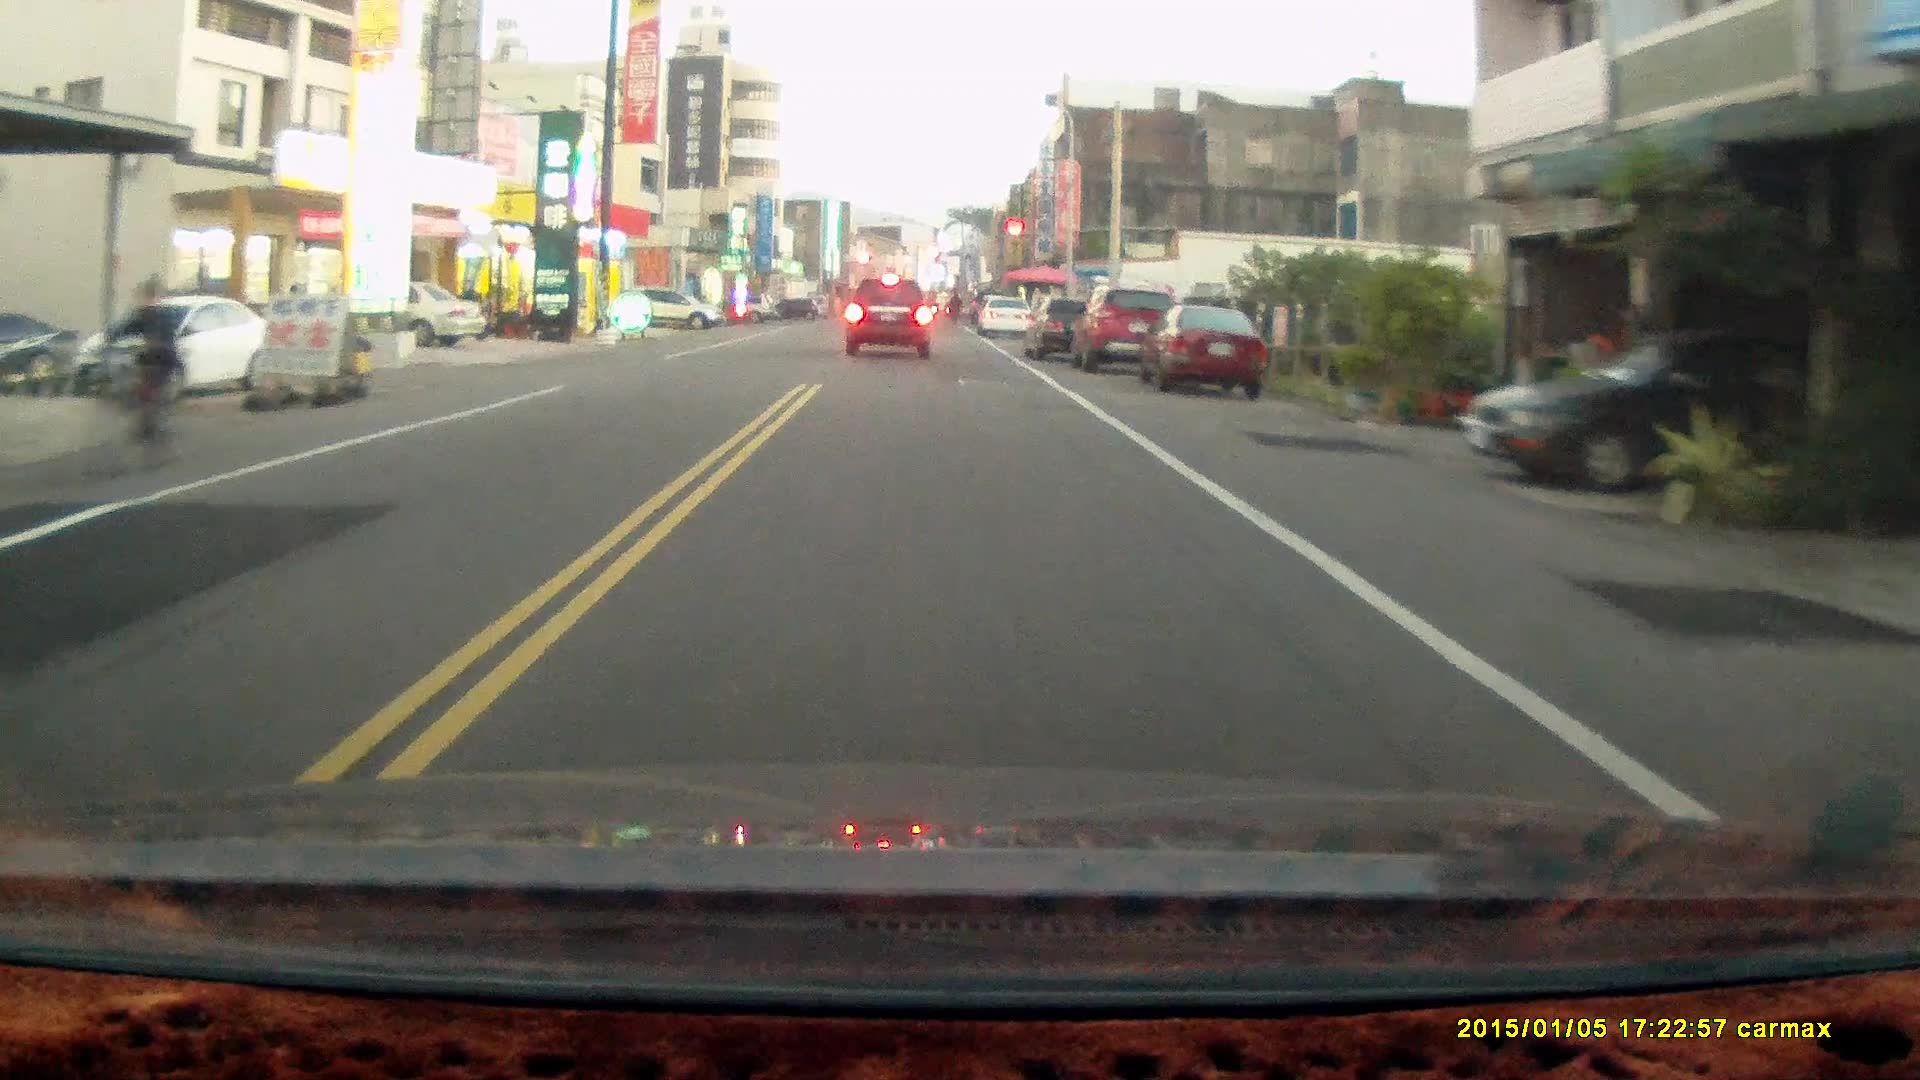rider: (77, 281, 183, 493)
vehicle: (1458, 320, 1896, 490), (72, 295, 283, 401), (1134, 301, 1275, 399), (309, 282, 486, 355), (1075, 286, 1184, 374), (844, 278, 933, 362), (1025, 294, 1121, 359), (630, 290, 725, 333)
